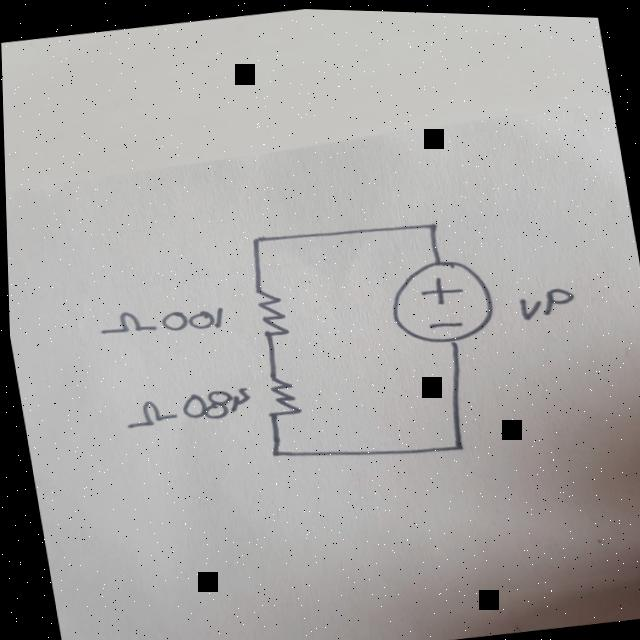junction: (263, 443, 283, 459), (422, 215, 439, 232), (447, 435, 465, 451), (246, 230, 265, 245)
resistor: (247, 283, 294, 343), (256, 369, 301, 421)
source: (381, 246, 498, 348)
text: (118, 379, 252, 432), (94, 293, 230, 344), (510, 276, 583, 322)
